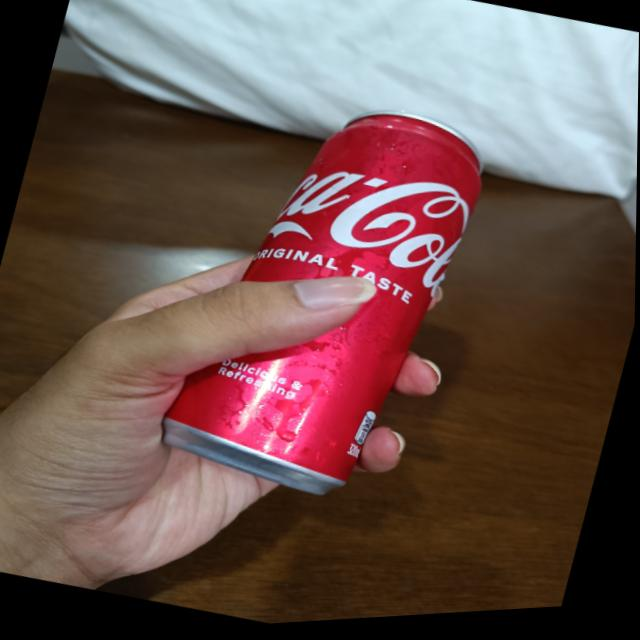coke: (147, 79, 494, 525)
